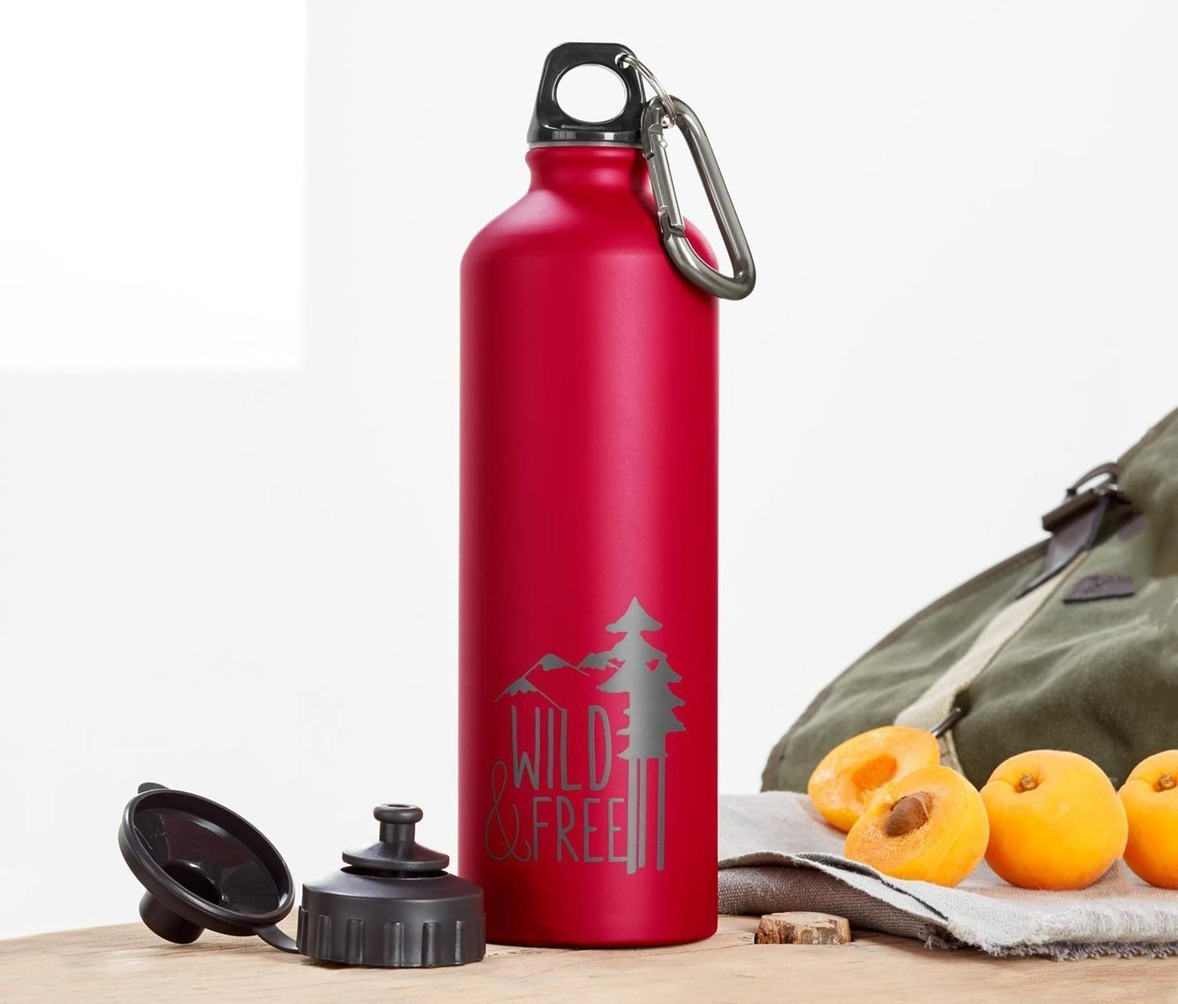gym bottle: (453, 34, 733, 954)
